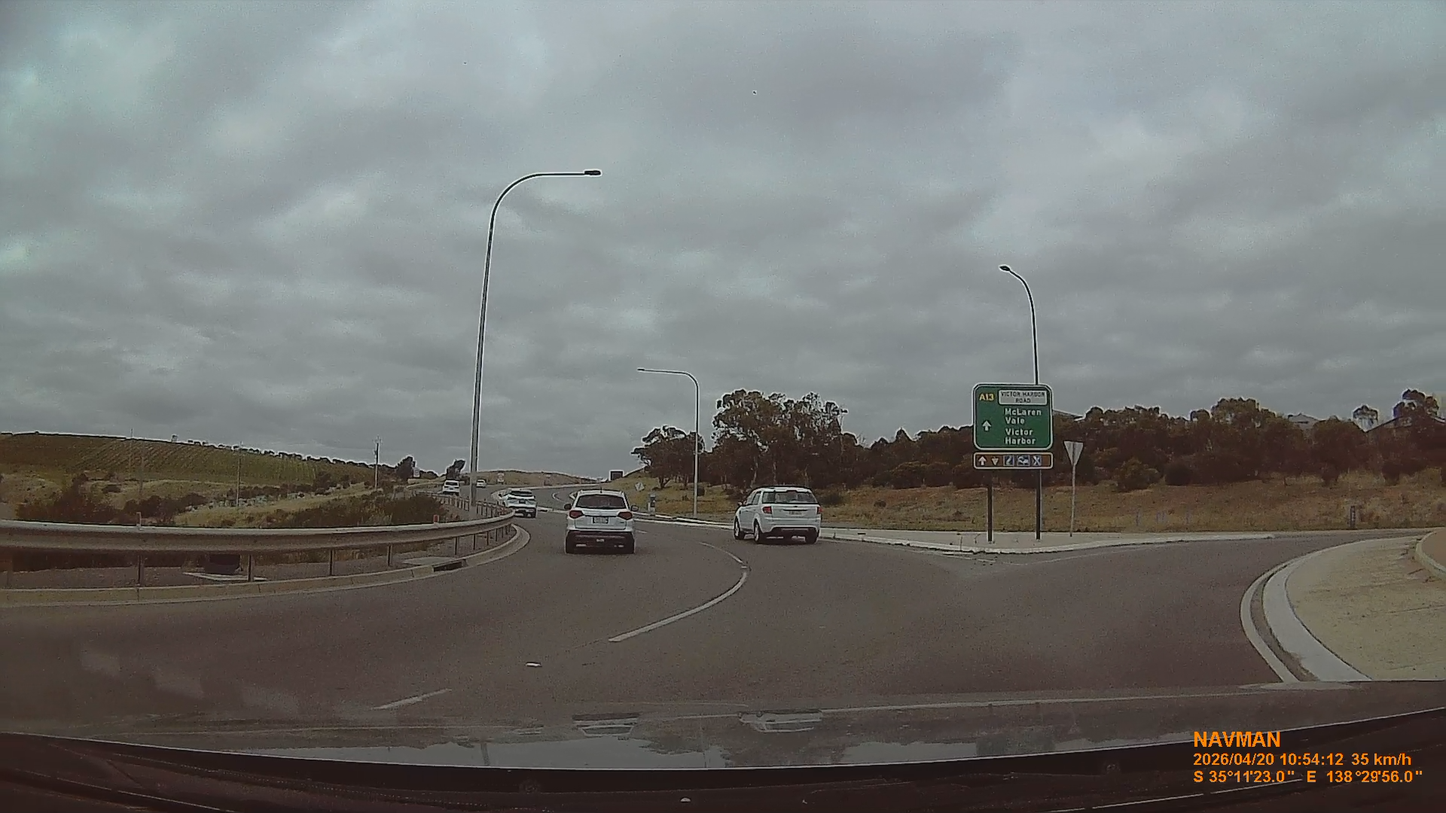road barriers: (0, 512, 519, 593)
